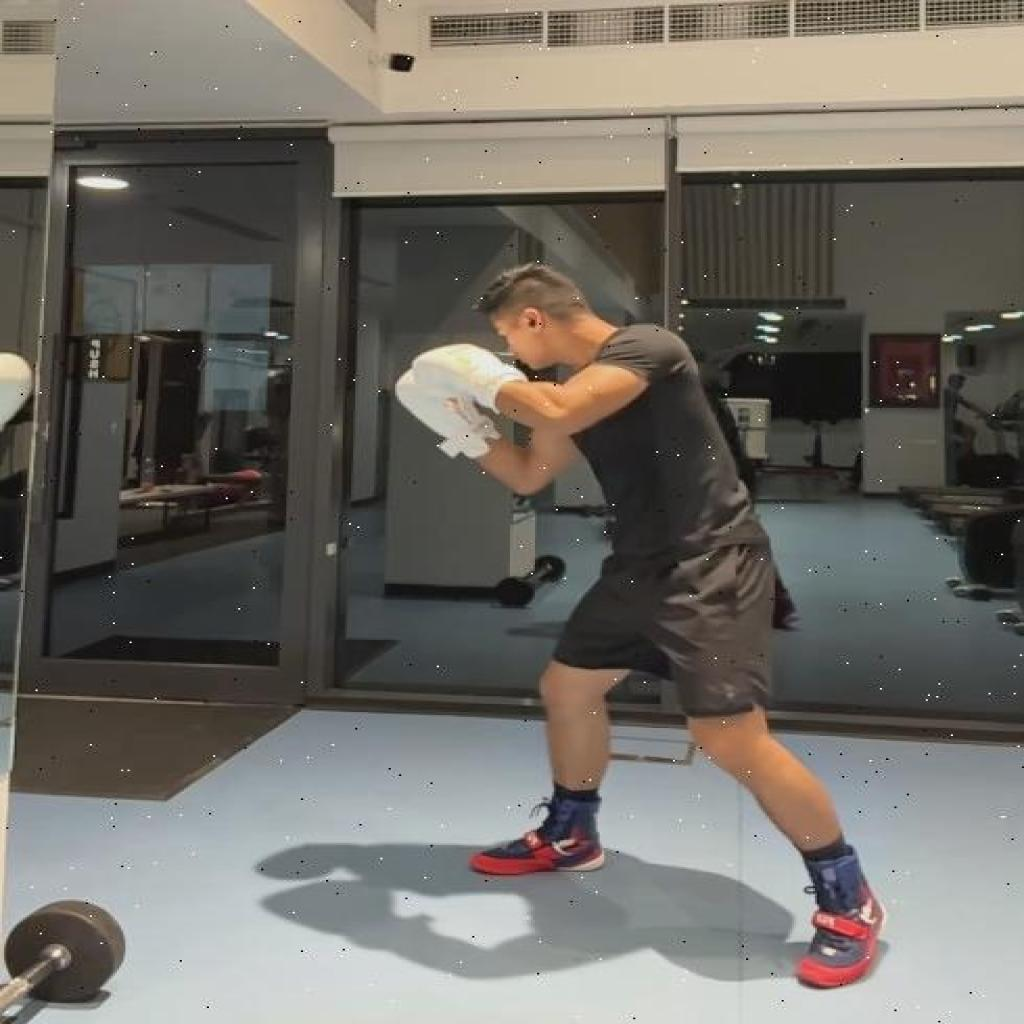no punch: (393, 259, 896, 995)
